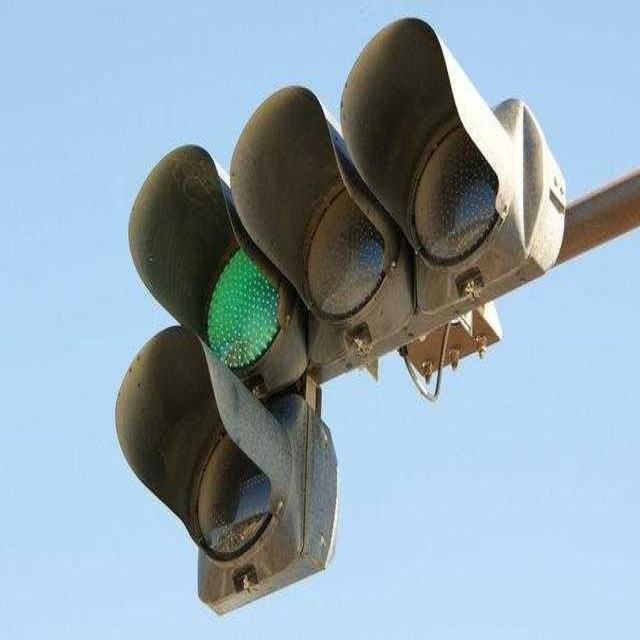Traffic Light -Green-: (130, 76, 570, 400), (83, 114, 351, 636)
